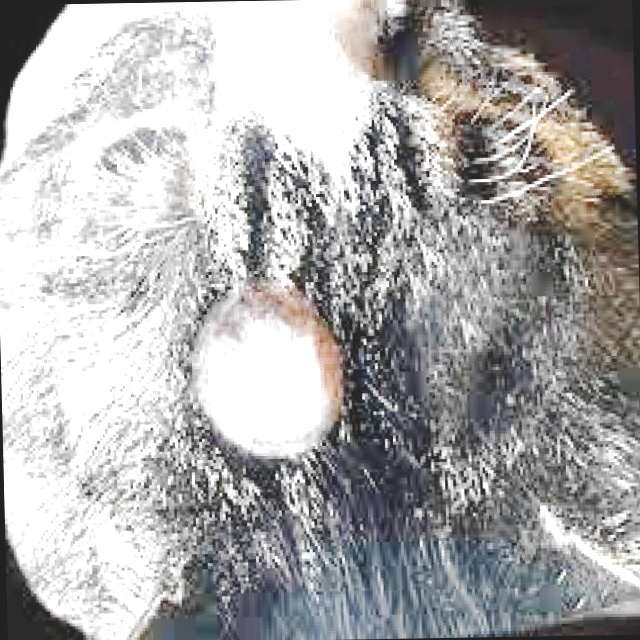lump_and_bump: (194, 274, 351, 476)
